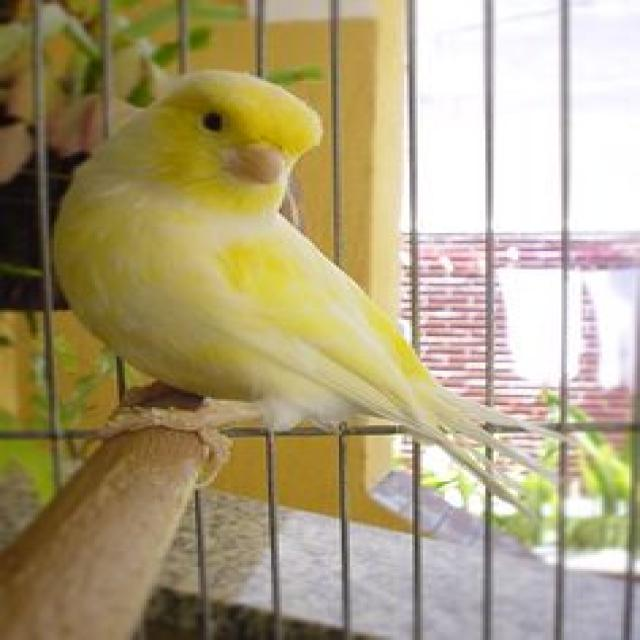Herbivorous: (52, 71, 518, 480)
